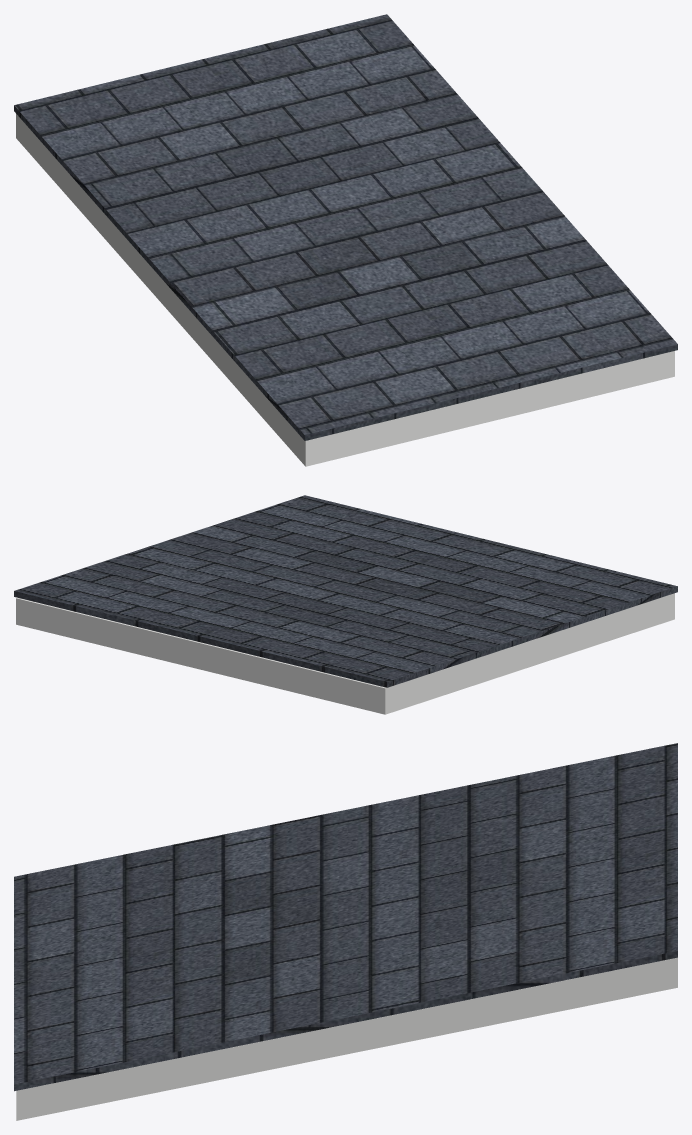
File: porch_roof.glb
3 renders of one model, top to bottom at view 1: azimuth 30°, elevation 25°; view 2: azimuth 150°, elevation 25°; view 3: azimuth 270°, elevation 25°, orthographic. The views are drawn at different scales.
Visible parts, largest first — view 1: porch_roof_shingle, porch_roof_trim; view 2: porch_roof_shingle, porch_roof_trim; view 3: porch_roof_shingle, porch_roof_trim.
Boxes of the visible parts, bbox=[...] form: porch_roof_shingle: bbox=[14, 14, 677, 440]; porch_roof_trim: bbox=[16, 114, 674, 466]; porch_roof_shingle: bbox=[14, 495, 677, 687]; porch_roof_trim: bbox=[16, 593, 674, 714]; porch_roof_shingle: bbox=[14, 743, 677, 1091]; porch_roof_trim: bbox=[16, 957, 677, 1120].
Bounding box in the file's own units: 2 × 0.7678 × 2.7.
2 materials, 1 textured.
